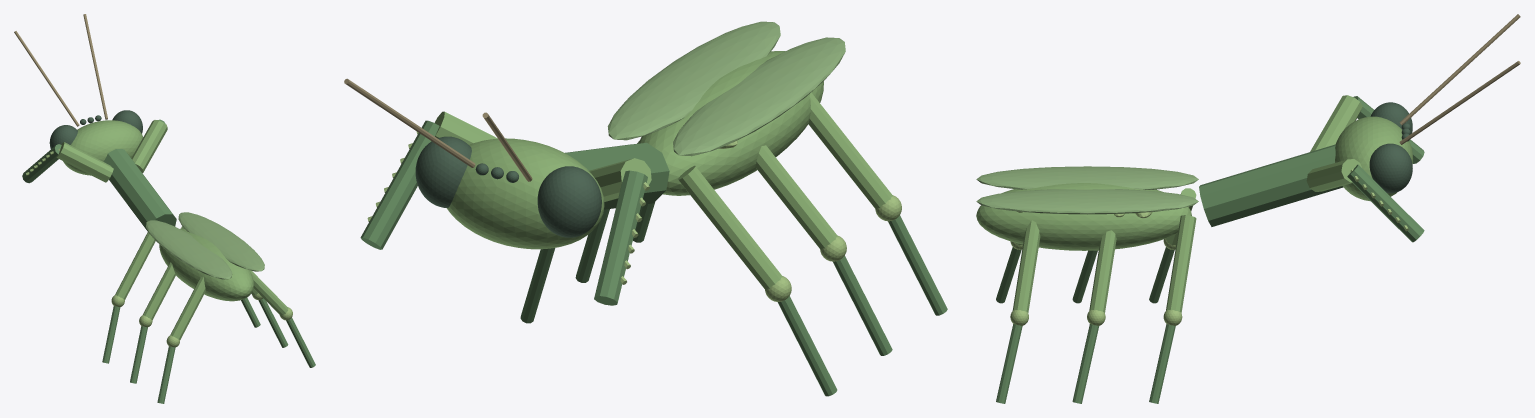
The model's file is mantis_detailed.glb.
The picture shows the model from 3 angles, left to right: view 1: azimuth 30°, elevation 25°; view 2: azimuth 150°, elevation 25°; view 3: azimuth 270°, elevation 25°; orthographic projection. The views are drawn at different scales.
Parts seen in each view (by area): view 1: Thorax, Abdomen, Wing_L, Head, Wing_R, ForeFemur_L, ForeFemur_R, Coxa_L2, Coxa_L0, Coxa_L1, Coxa_R0, ForeTibia_L (+9 smaller); view 2: Head, Wing_L, Wing_R, Abdomen, Eye_L, Coxa_L2, ForeTibia_L, ForeTibia_R, Coxa_L0, Eye_R, Coxa_L1, Thorax (+9 smaller); view 3: Abdomen, Thorax, Wing_R, Wing_L, Head, Eye_R, Coxa_R2, ForeTibia_R, Coxa_R0, Coxa_R1, ForeFemur_L, ForeFemur_R (+9 smaller).
Boxes of the visible parts, x1,y1,x2,y2 form: Thorax: (103,149,176,231); Abdomen: (159,228,253,301); Wing_L: (146,220,232,279); Head: (63,120,143,175); Wing_R: (178,212,264,271); ForeFemur_L: (56,142,113,182); ForeFemur_R: (131,120,167,172); Coxa_L2: (115,232,155,299); Coxa_L0: (170,276,205,339); Coxa_L1: (143,262,175,319); Coxa_R0: (250,270,288,315); ForeTibia_L: (22,144,61,183); Head: (446,138,604,249); Wing_L: (673,37,845,156); Wing_R: (607,21,780,140); Abdomen: (638,51,823,195); Eye_L: (537,166,601,237); Coxa_L2: (678,165,782,289); ForeTibia_L: (594,170,647,305); ForeTibia_R: (360,120,439,249); Coxa_L0: (808,92,892,209); Eye_R: (415,136,471,207); Coxa_L1: (755,145,837,249); Thorax: (565,142,669,209); Abdomen: (976,183,1191,250); Thorax: (1199,144,1343,226); Wing_R: (976,189,1198,214); Wing_L: (976,166,1198,189); Head: (1335,116,1412,201); Eye_R: (1369,143,1412,193); Coxa_R2: (1166,215,1196,313); ForeTibia_R: (1347,164,1424,242); Coxa_R0: (1012,220,1040,312); Coxa_R1: (1089,230,1116,312); ForeFemur_L: (1310,95,1362,151); ForeFemur_R: (1306,159,1362,191).
Size of the model in its own units: 0.7261 by 1 by 1.56.
